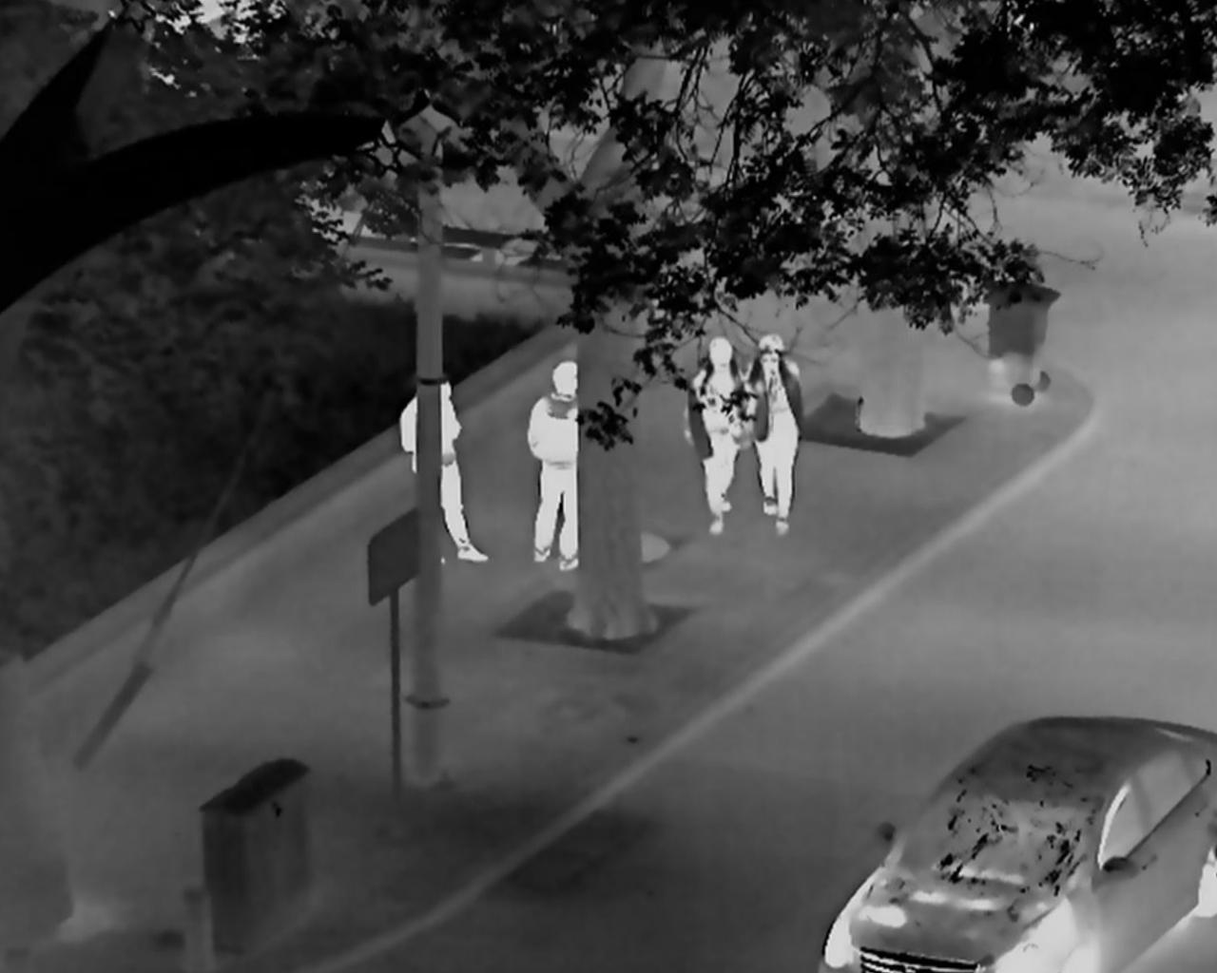person: (399, 377, 487, 561), (681, 335, 747, 535), (527, 360, 582, 571), (746, 334, 802, 539)
